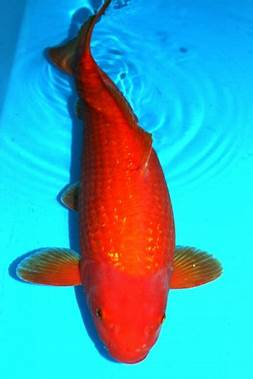red: (13, 2, 222, 364)
